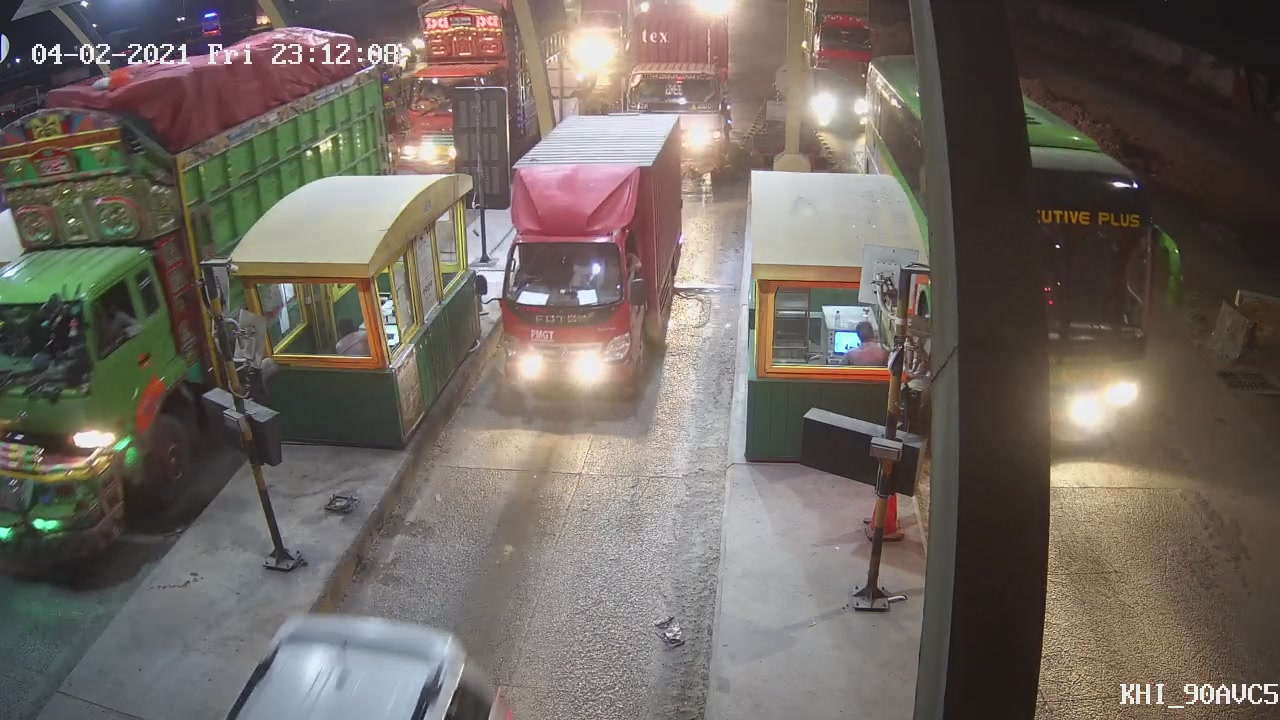F3: (480, 111, 690, 403)
